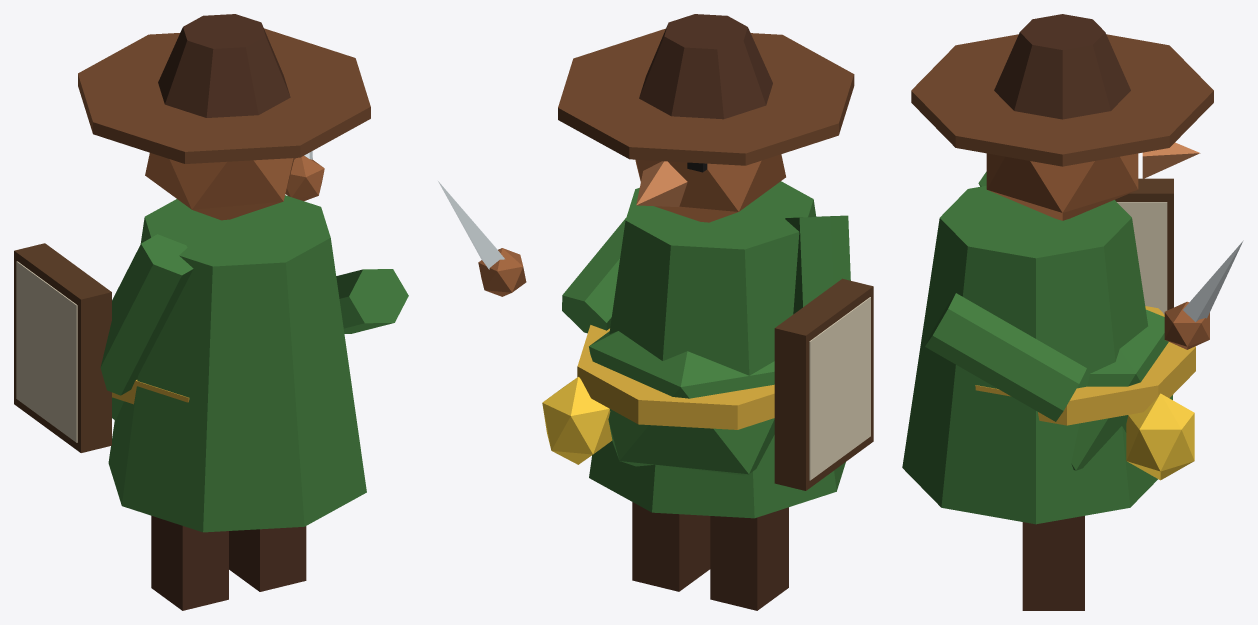
The model's file is CH_Bookmaker.fbx.
The picture shows the model from 3 angles, left to right: view 1: azimuth 30°, elevation 25°; view 2: azimuth 150°, elevation 25°; view 3: azimuth 270°, elevation 25°; orthographic projection.
Visible parts, largest first — view 1: CH_Bookmaker; view 2: CH_Bookmaker; view 3: CH_Bookmaker.
Boxes of the visible parts, x1,y1,x2,y2 form: CH_Bookmaker: [14, 14, 408, 610]; CH_Bookmaker: [438, 14, 873, 610]; CH_Bookmaker: [902, 14, 1243, 610].
Size of the model in its own units: 0.8555 by 0.7668 by 1.36.
